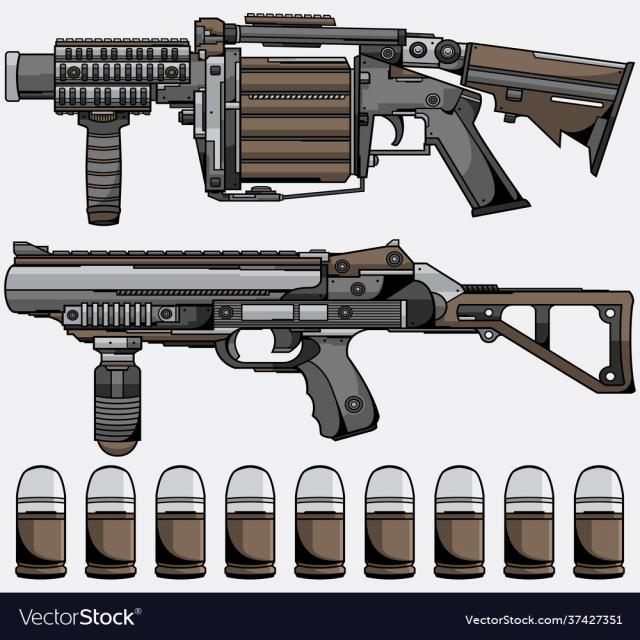rocket launcher: (4, 5, 629, 246), (4, 239, 631, 466)
